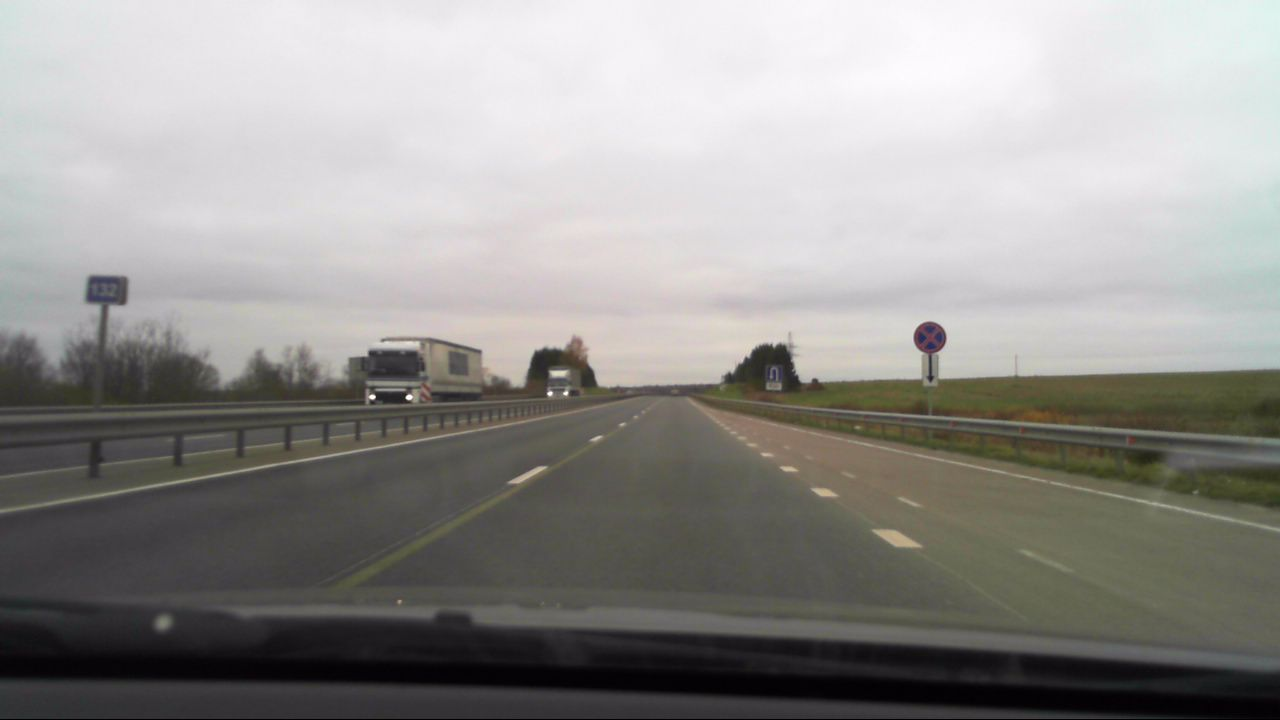No Parking: (912, 322, 946, 354)
U-turn: (766, 366, 781, 382)
